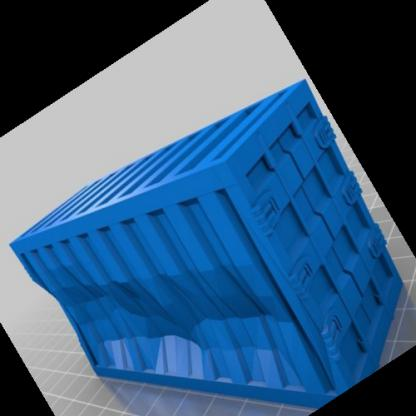Damage: (73, 279, 297, 336)
